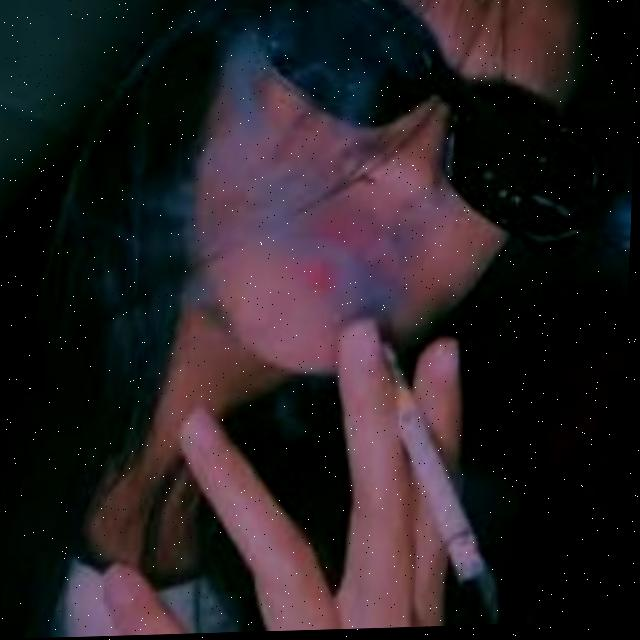cigarette: (379, 342, 497, 585)
